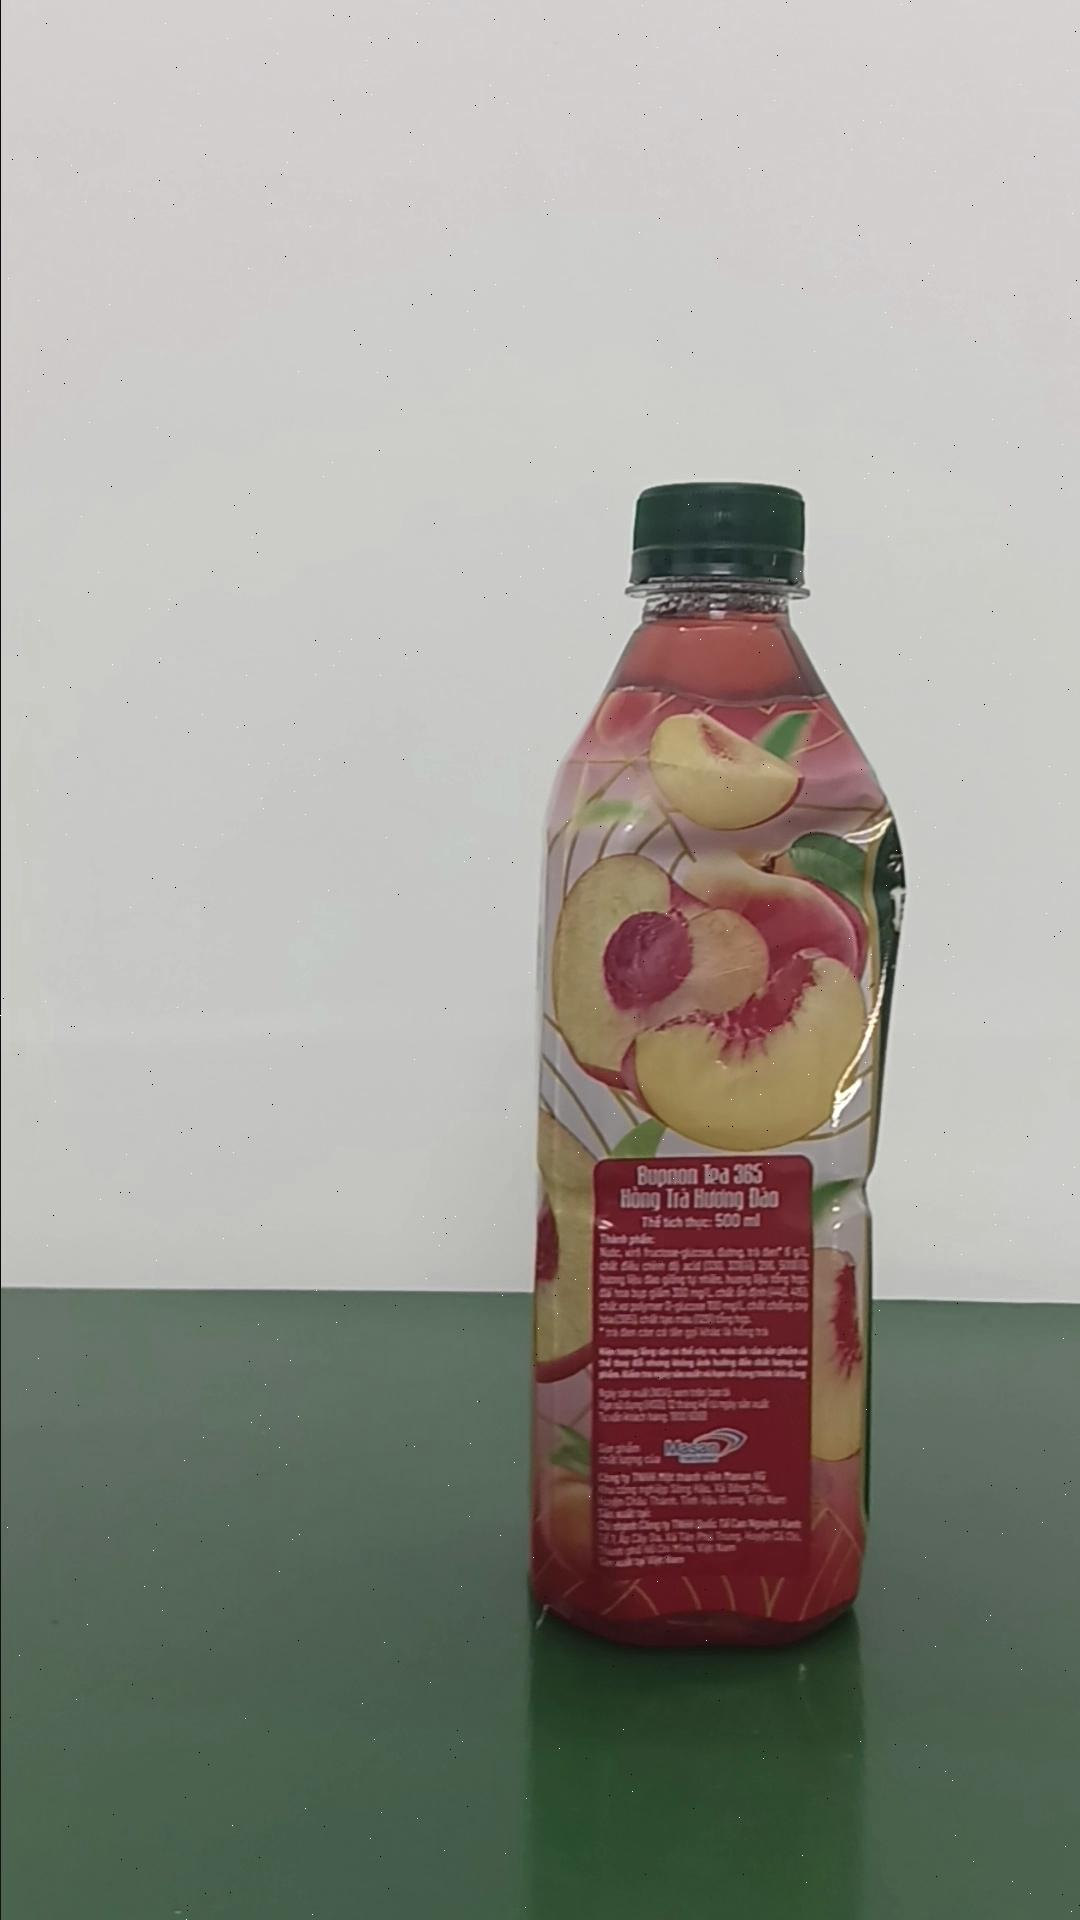loi meo sp: (526, 479, 907, 1648)
